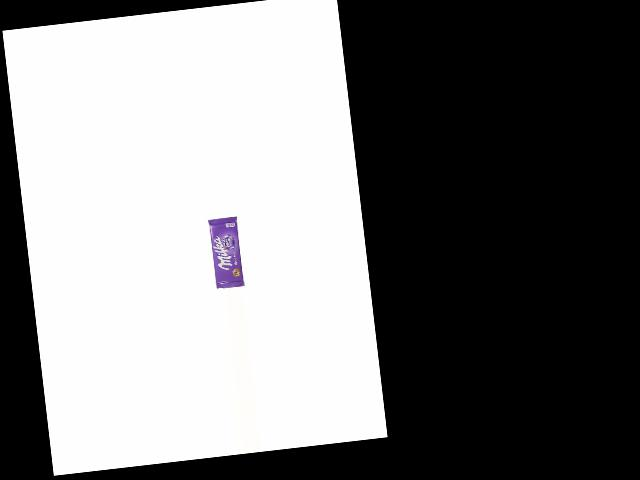chocolate: (206, 212, 248, 289)
